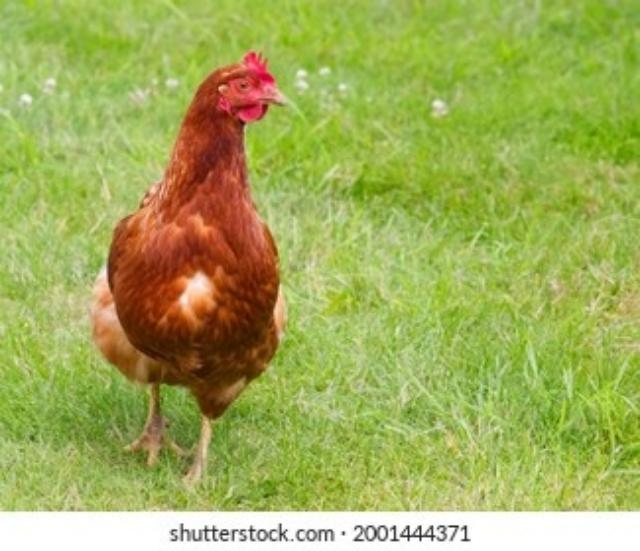Chicken: (89, 52, 288, 485)
